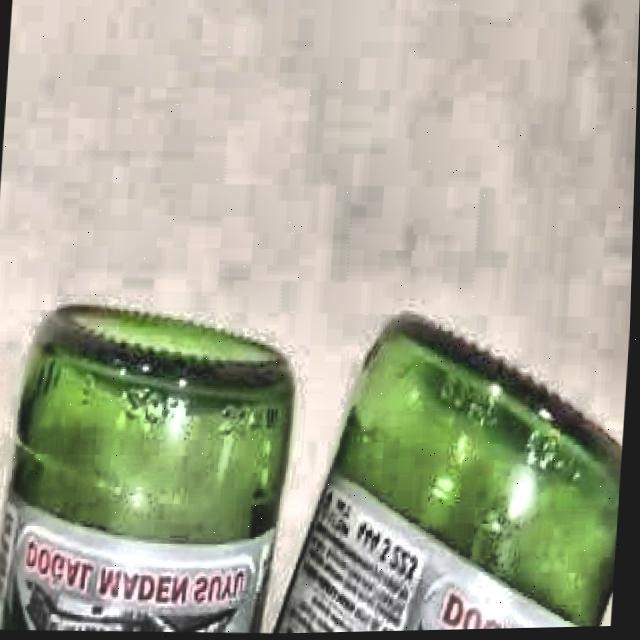glass: (0, 305, 291, 634)
